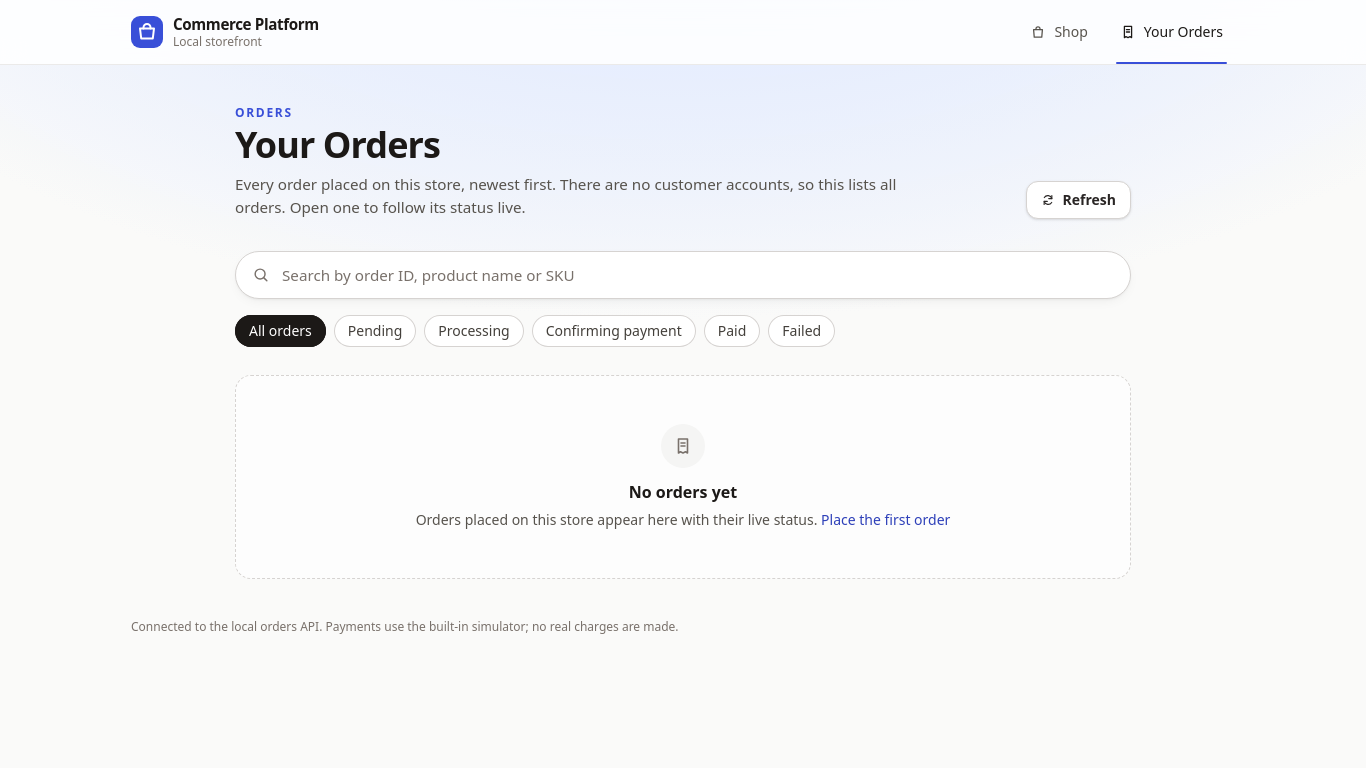
Test: Your Orders: search and filters › tells an empty history apart from no matching orders
Expected: the text "No orders yet" is shown, [629,481,737,503]
Click the button "Paid".
click(732, 331)  # box [704,315,760,347]
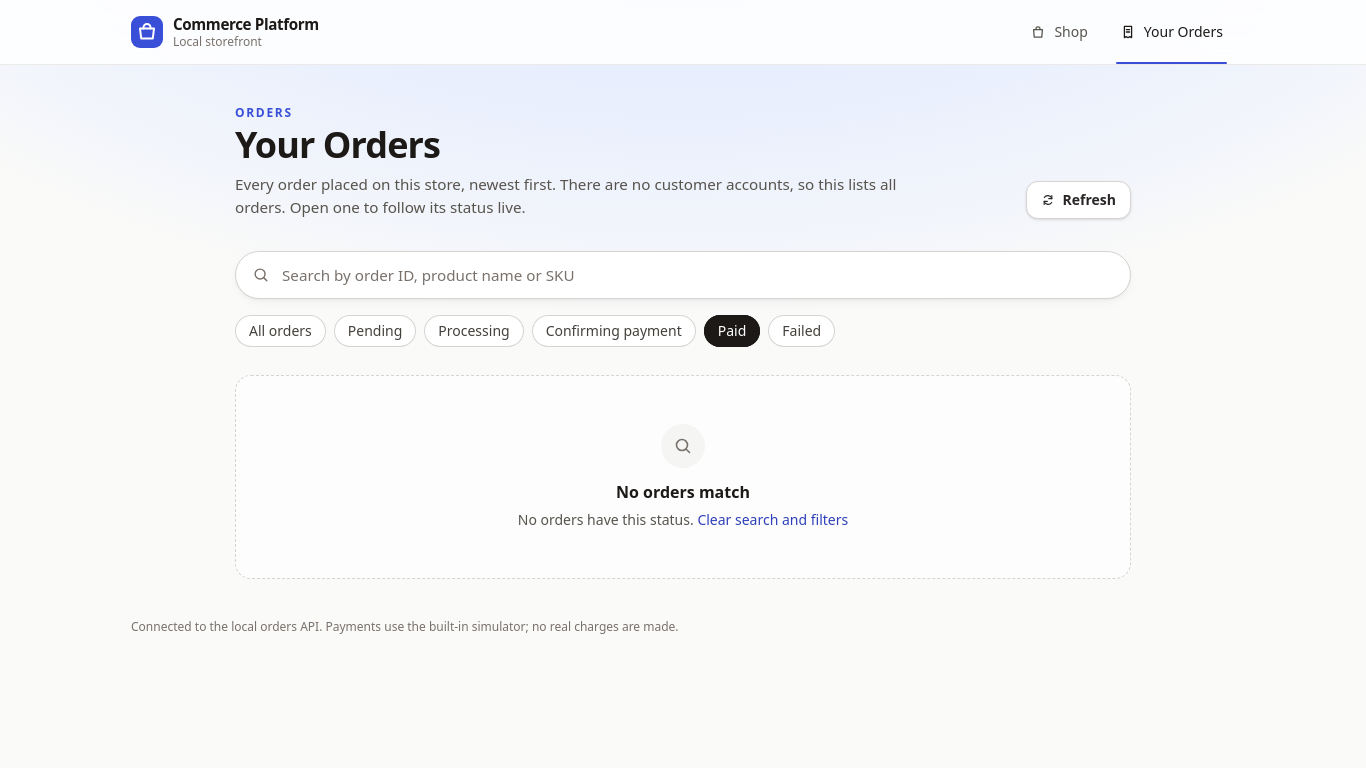
Result: the text "No orders match" is shown at [616,481,750,503]
Result: the text "No orders have this status. Clear search and filters" is shown at [518,510,848,530]
Type "zzz" into the search field named "Search orders".
click(698, 275); type("zzz")  # box [282,252,1114,298]
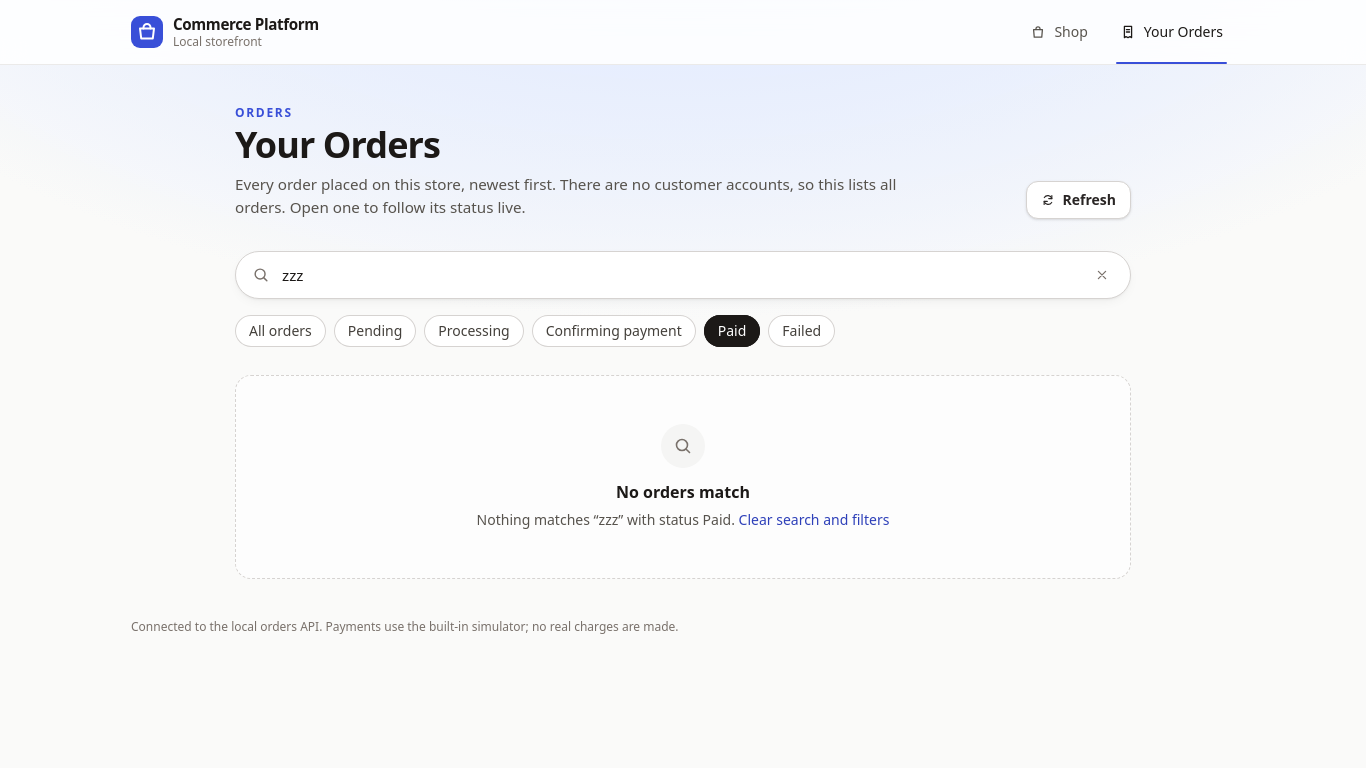
Result: the text "Nothing matches “zzz” with status Paid" is shown at [477,510,889,530]
Click the button "Clear search and filters".
click(814, 520)  # box [739,510,889,530]
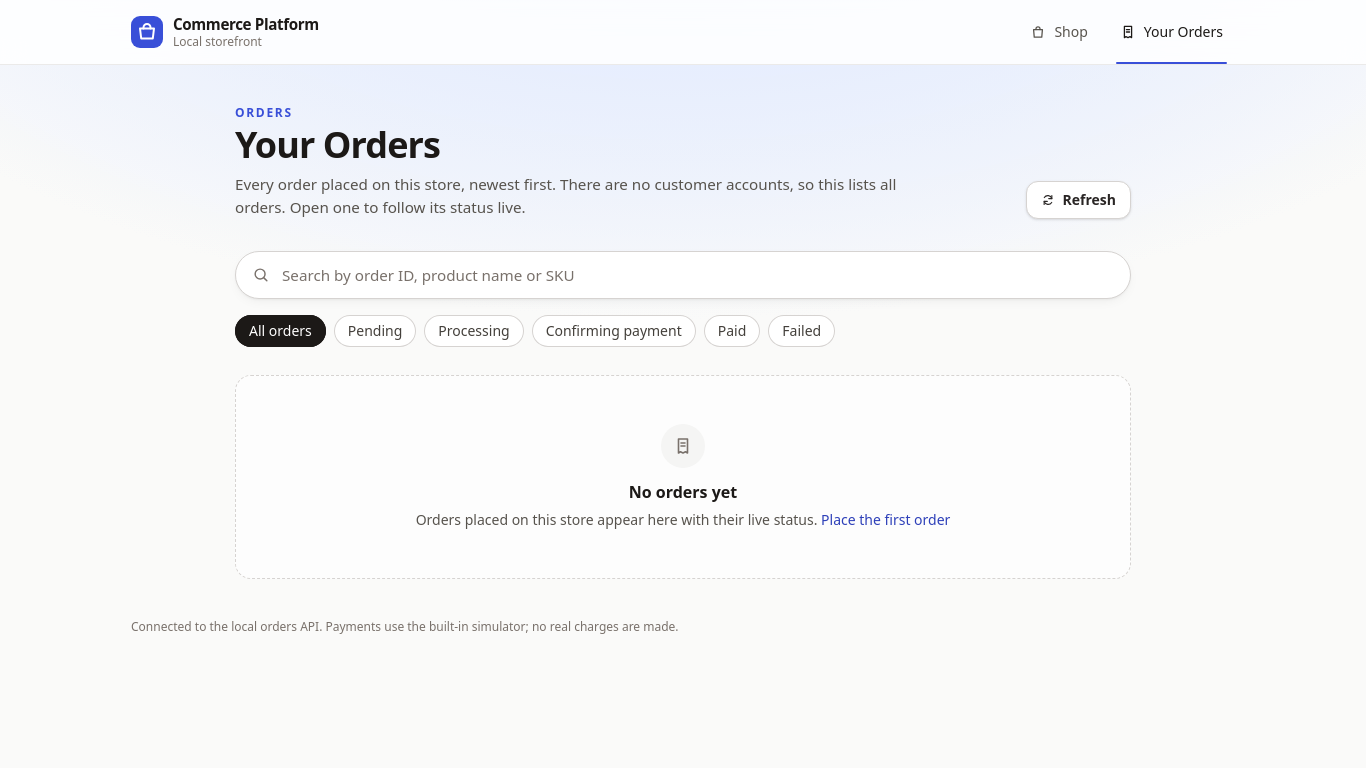
Result: the text "No orders yet" is shown at [629,481,737,503]
Result: the search field named "Search orders" is empty at [282,252,1114,298]
